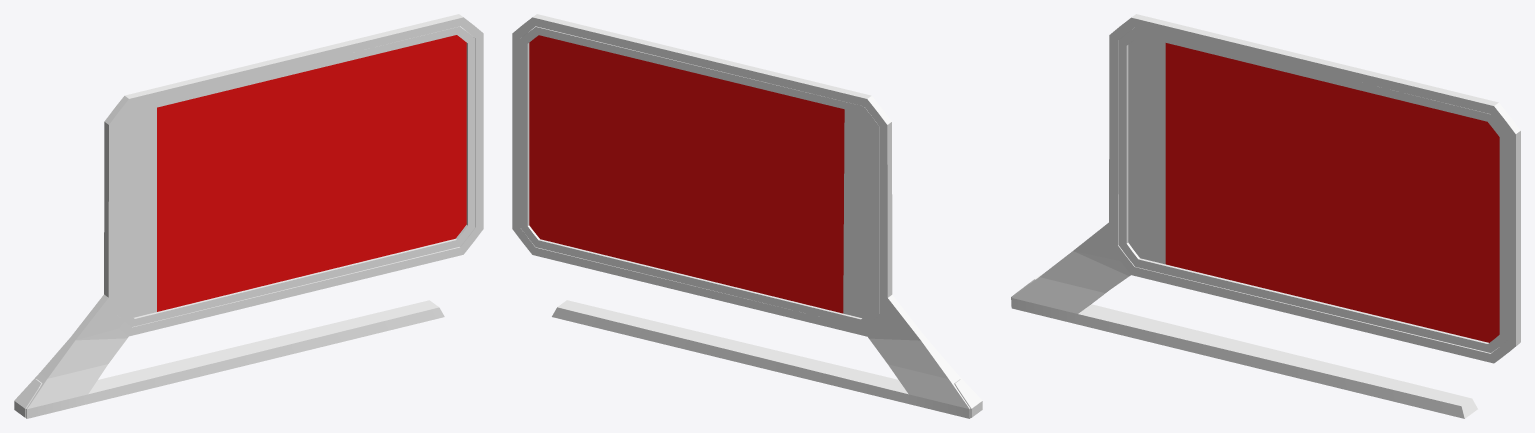
The model's file is tablon.fbx.
3 renders of one model, left to right at view 1: azimuth 30°, elevation 25°; view 2: azimuth 150°, elevation 25°; view 3: azimuth 330°, elevation 25°, orthographic. The views are drawn at different scales.
Parts seen in each view (by area): view 1: Tablon; view 2: Tablon; view 3: Tablon.
Boxes of the visible parts, x1,y1,x2,y2 form: Tablon: (14,14,483,418); Tablon: (512,14,982,418); Tablon: (1011,14,1520,418).
Bounding box in the file's own units: 355 × 214 × 16.5.
